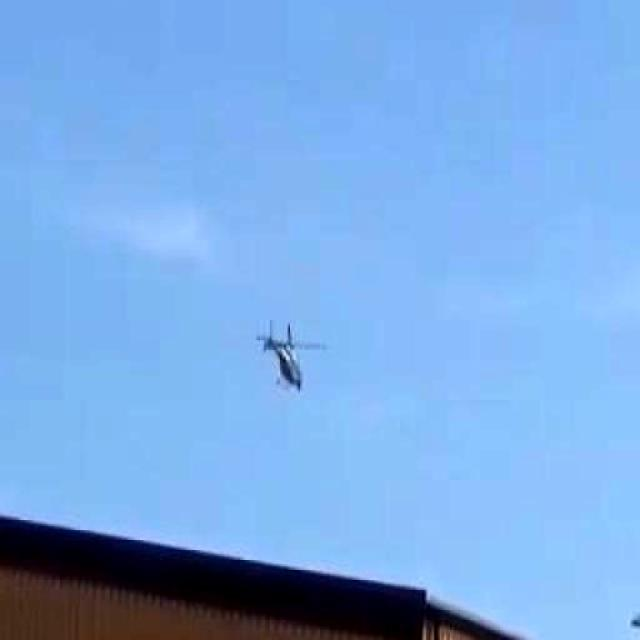drone: (228, 284, 326, 430)
